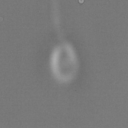normal: (48, 1, 69, 45)
